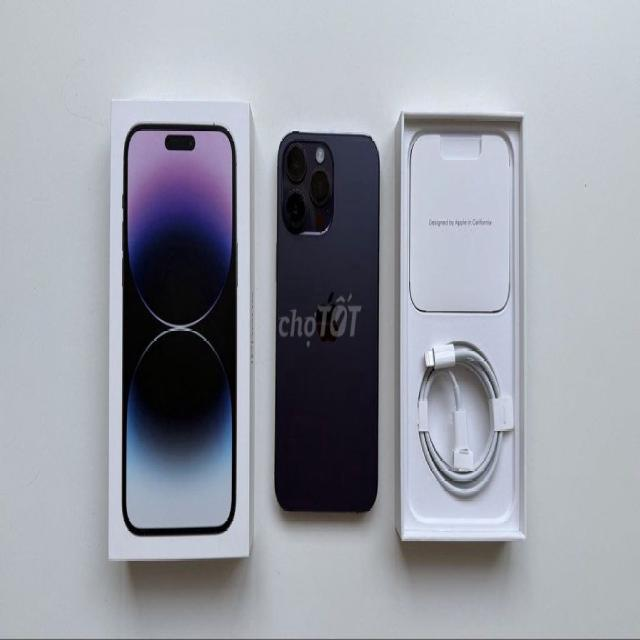gen_14: (274, 121, 384, 530)
